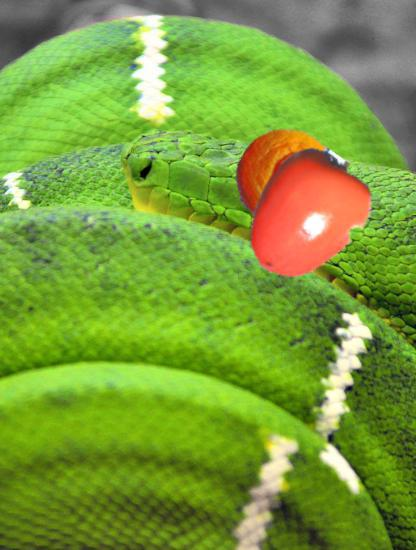Kaki: (239, 148, 375, 284)
Mandarine: (234, 125, 336, 227)
